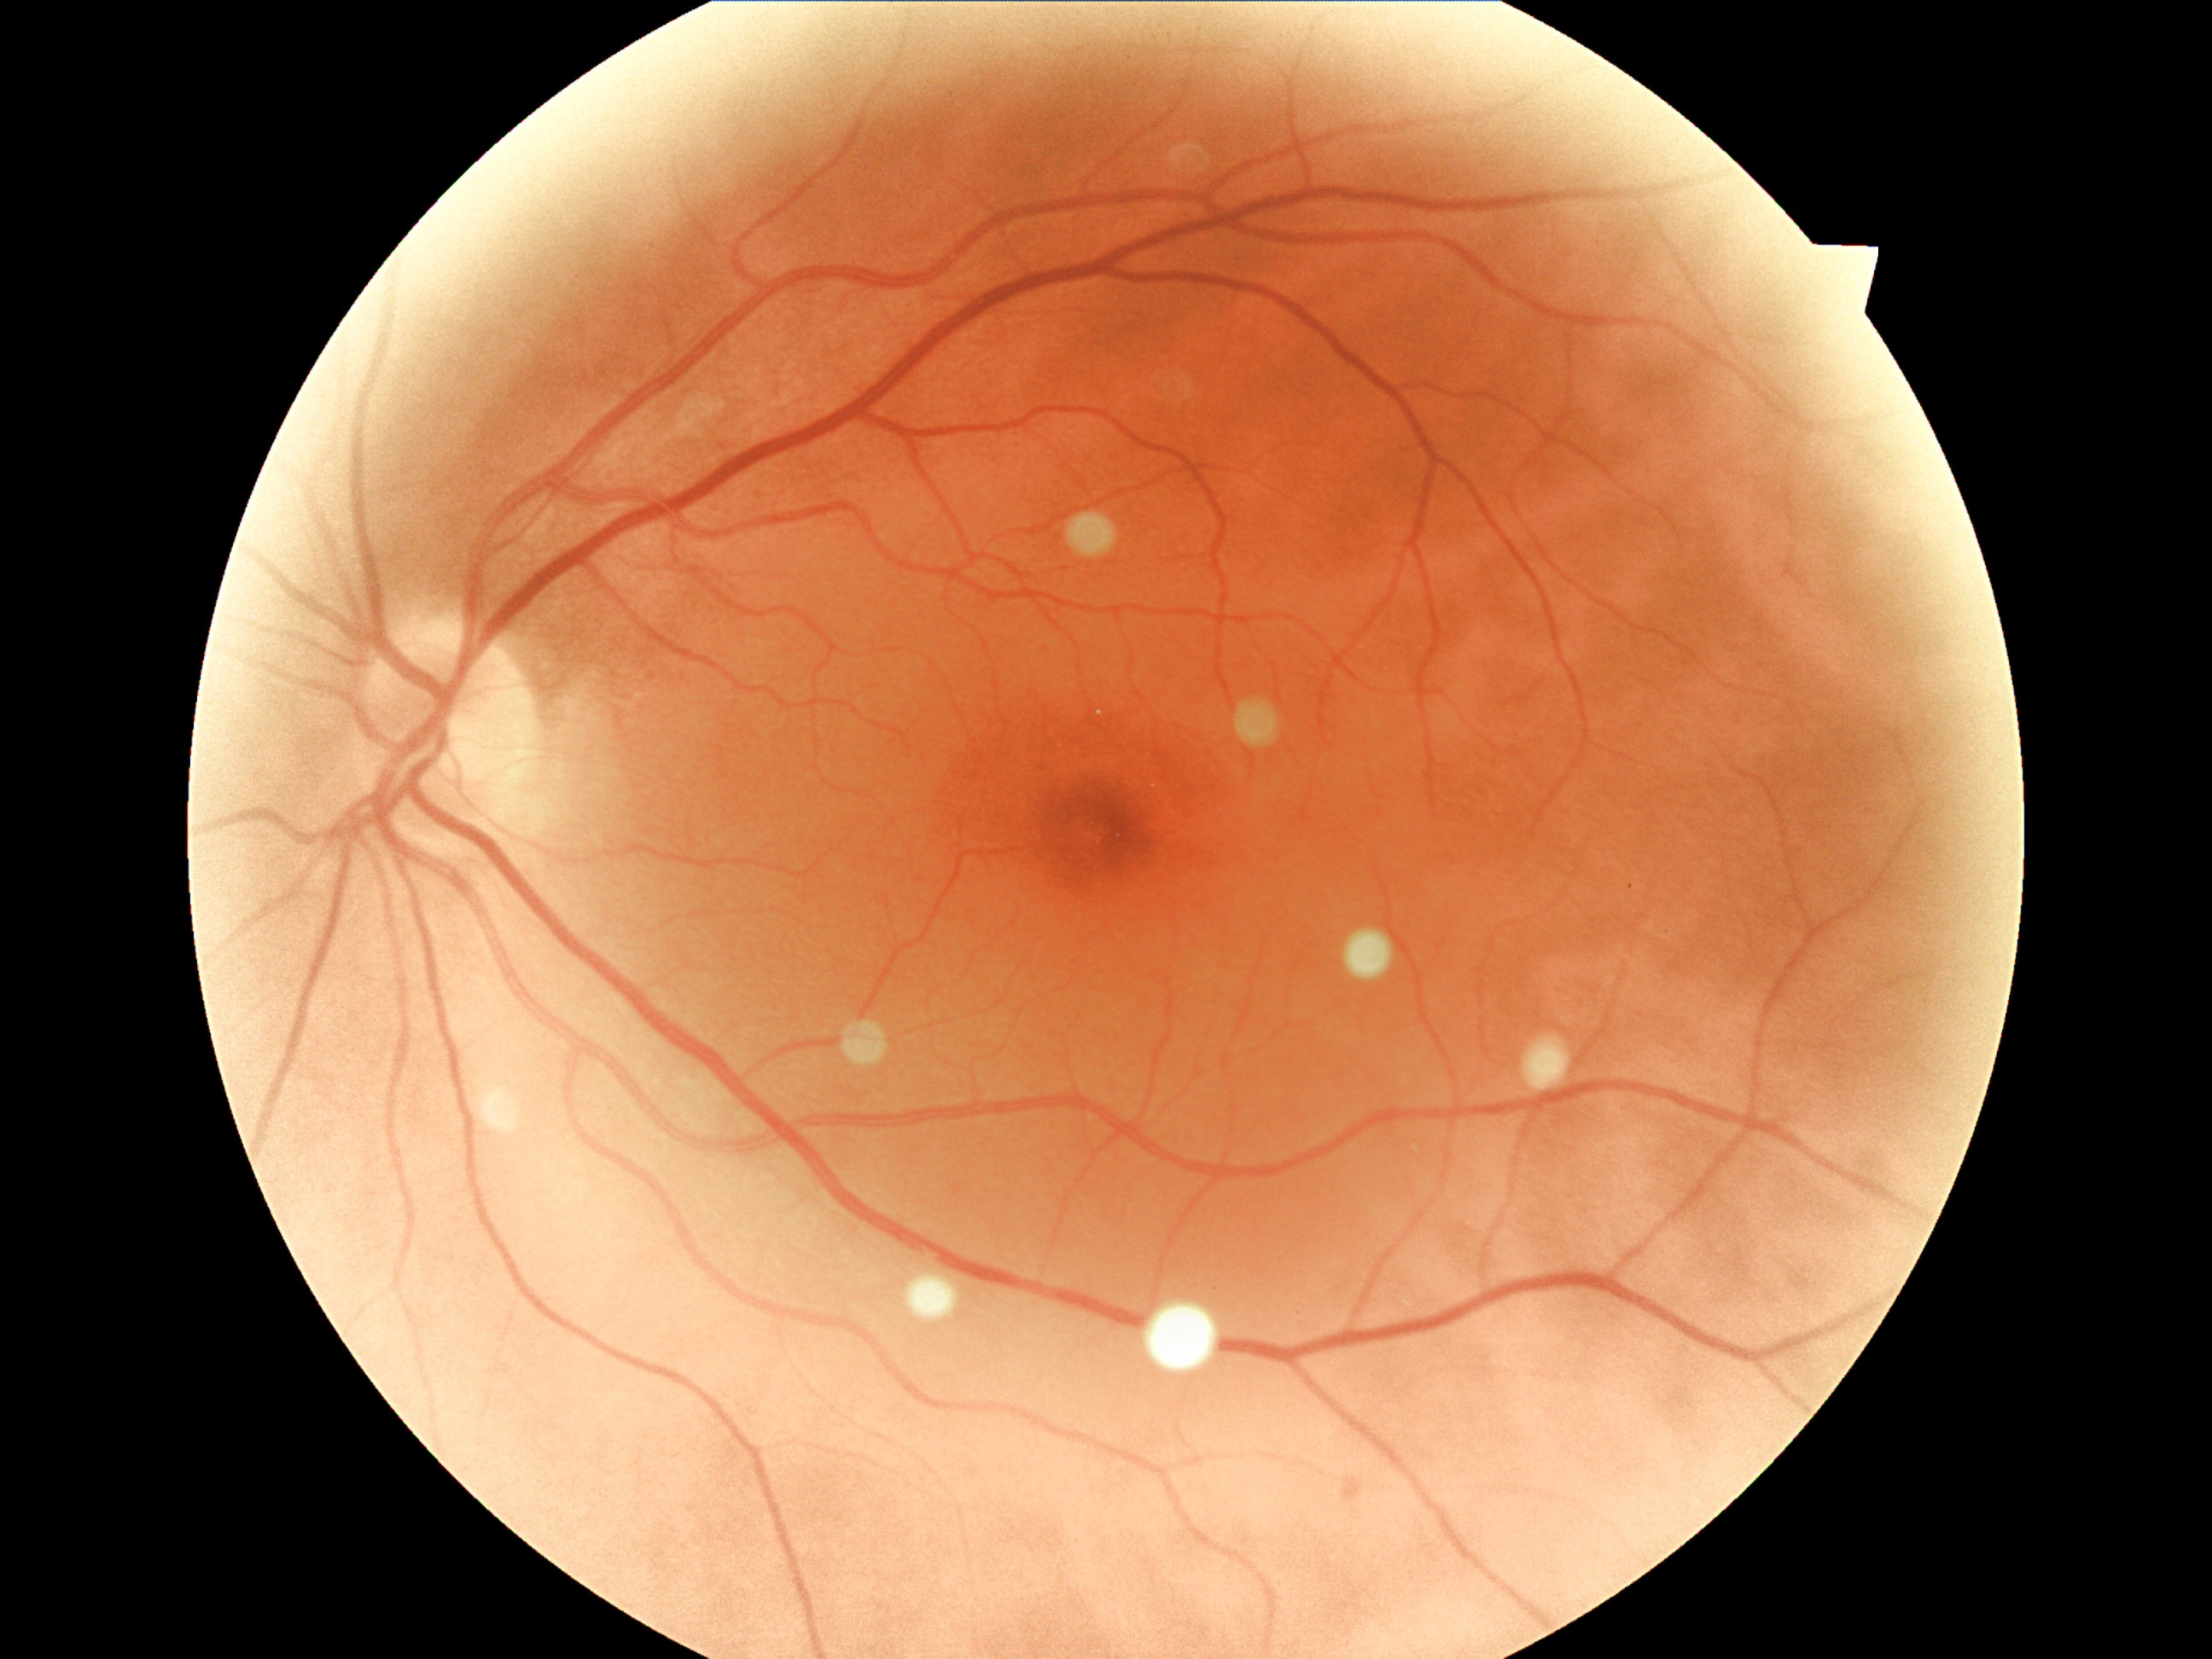Fovea: (982, 732, 1188, 943)
OD: (333, 603, 557, 864)
